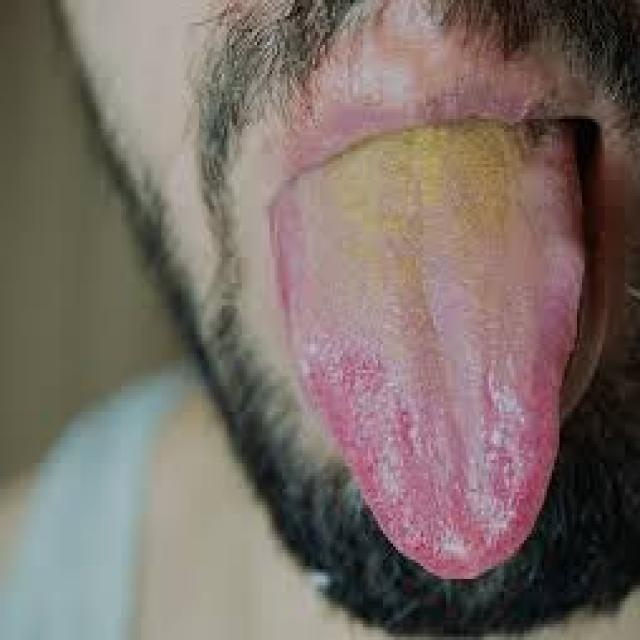discolored_patch: (265, 119, 587, 579)
